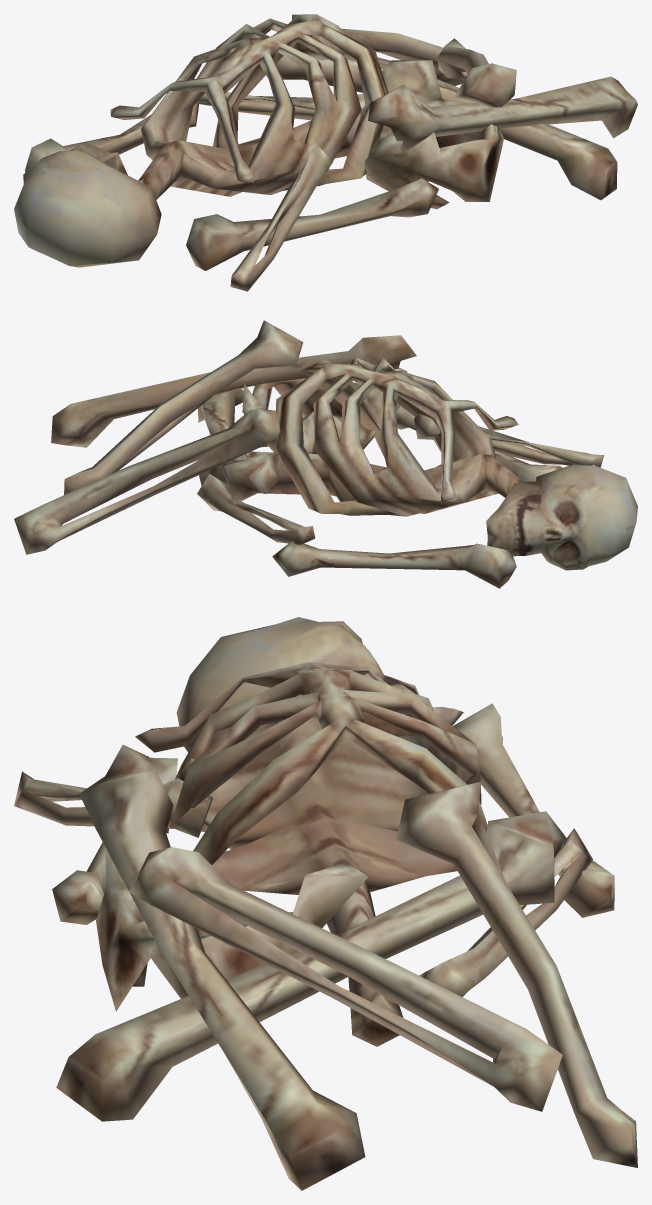
The model's file is all_item_bone_human_whole_02.glb.
3 renders of one model, top to bottom at view 1: azimuth 30°, elevation 25°; view 2: azimuth 150°, elevation 25°; view 3: azimuth 270°, elevation 25°, orthographic. The views are drawn at different scales.
Parts seen in each view (by area): view 1: all_item_bone_human_whole_02; view 2: all_item_bone_human_whole_02; view 3: all_item_bone_human_whole_02.
Boxes of the visible parts, box(x1,y1,x2,y2) form: all_item_bone_human_whole_02: box(14, 14, 637, 291); all_item_bone_human_whole_02: box(14, 320, 637, 588); all_item_bone_human_whole_02: box(14, 617, 637, 1190).
Bounding box in the file's own units: 0.1649 × 0.0489 × 0.0966.
1 material, 1 textured.
